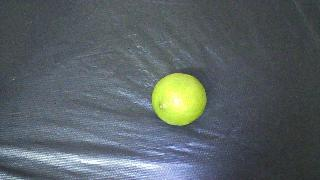LOCAL: (151, 73, 207, 126)
